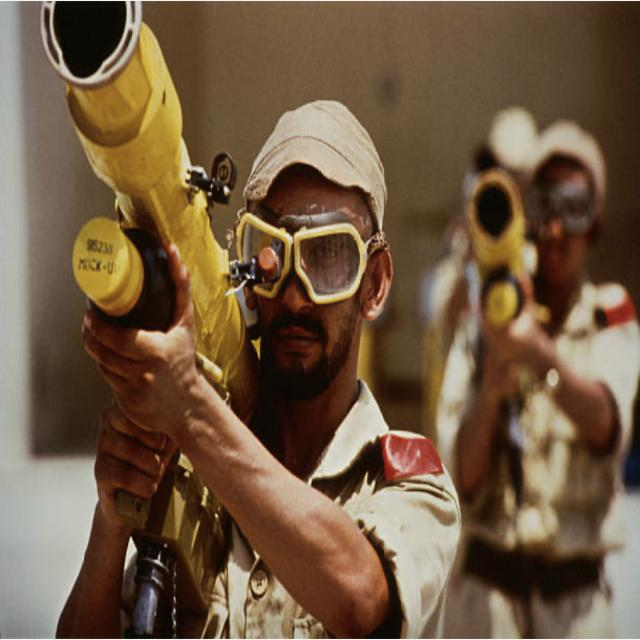bazooka: (35, 1, 264, 434)
